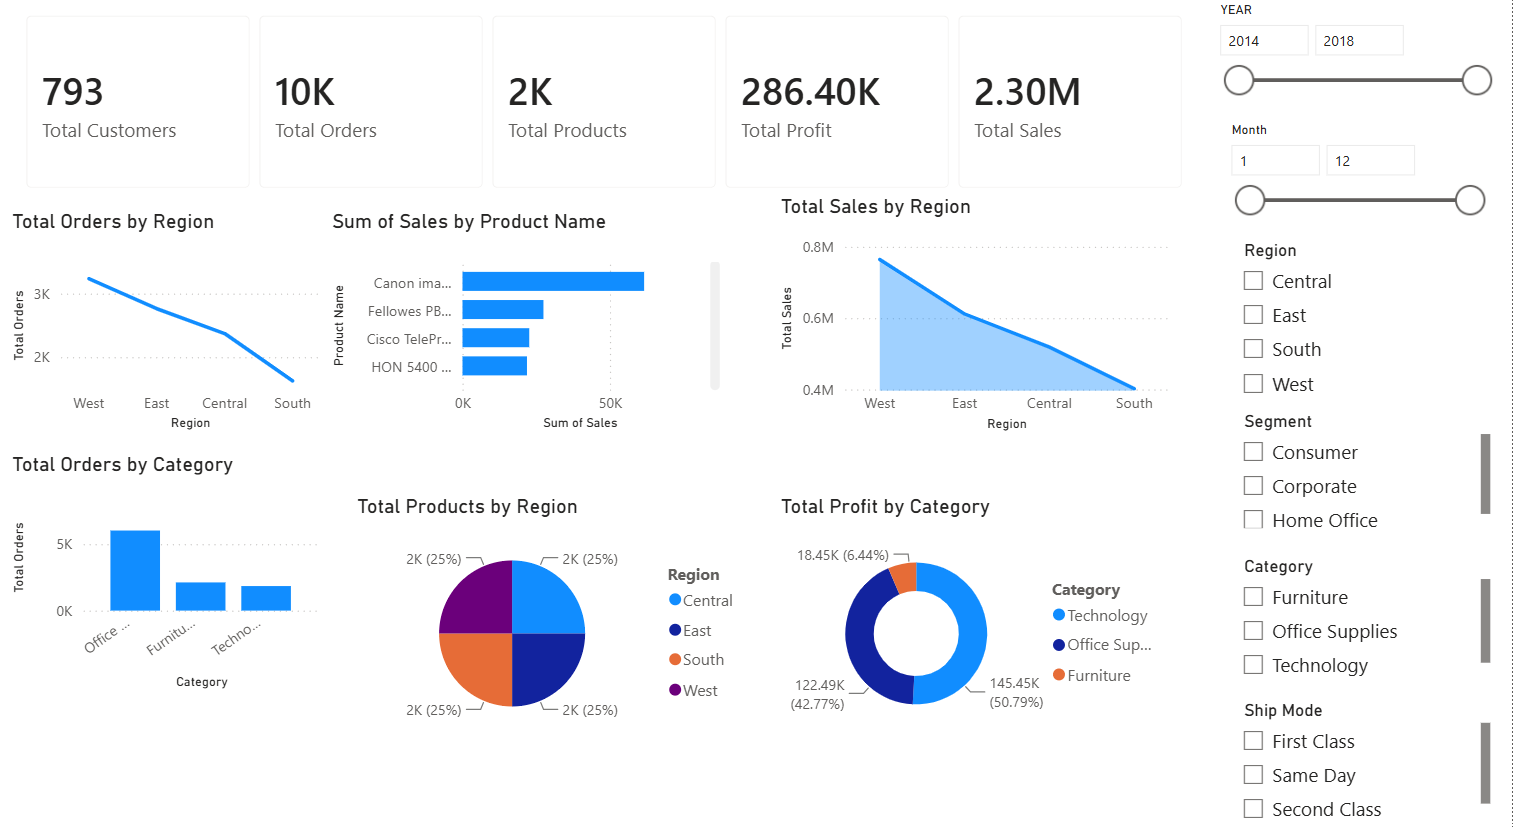

Layout of this report page (visuals, bound fields, positions):
{"tool":"powerbi","page":{"name":"Page 1","canvas":[1280,720],"ordinal":0},"visuals":[{"type":"cardVisual","fields":{"Data":["Fact Sales.Total Customers","Fact Sales.Total Orders","Fact Sales.Total Products","Fact Sales.Total Profit","Fact Sales.Total Sales"]},"box":[13.7,15.1,1008.6,179.8],"z":0},{"type":"slicer","fields":{"Values":["Dim Calendar.YEAR"]},"box":[1022.3,15.1,249.7,90.6],"z":1000},{"type":"slicer","fields":{"Values":["Dim Calendar.Month"]},"box":[1031.9,115.3,234.6,90.6],"z":2000},{"type":"slicer","fields":{"Values":["Dim Customer.Region"]},"box":[1041.5,215.4,230.5,144.1],"z":3000},{"type":"slicer","fields":{"Values":["Dim Customer.Segment"]},"box":[1041.5,359.5,225,108.4],"z":4000},{"type":"slicer","fields":{"Values":["Dim Product.Category"]},"box":[1041.5,481.6,225,111.1],"z":5000},{"type":"slicer","fields":{"Values":["Fact Sales.Ship Mode"]},"box":[1041.5,602.4,225,118],"z":6000},{"type":"lineChart","fields":{"Category":["Dim Customer.Region"],"Y":["Fact Sales.Total Orders"]},"box":[13.4,195,269,191],"z":7000},{"type":"columnChart","fields":{"Y":["Fact Sales.Total Orders"],"Category":["Dim Product.Category"]},"box":[13.4,398.1,269,204.4],"z":8000},{"type":"barChart","fields":{"Y":["Sum(Fact Sales.Sales)"],"Category":["Dim Product.Product Name"]},"box":[282.4,195,336.2,191],"z":9000},{"type":"stackedAreaChart","fields":{"Category":["Dim Customer.Region"],"Y":["Fact Sales.Total Sales"]},"box":[660.3,181.6,336,204],"z":10000},{"type":"pieChart","fields":{"Y":["Fact Sales.Total Products"],"Category":["Dim Customer.Region"]},"box":[303.9,434.4,336,204],"z":11000},{"type":"donutChart","fields":{"Y":["Fact Sales.Total Profit"],"Category":["Dim Product.Category"]},"box":[660,434,336,204],"z":12000}]}

Visuals, with their boxes in screenshot pixels (x1, y1, x2, y2), scaled from the page's 1280x720 canvas onto the 1513x827 screenshot:
cardVisual - Fact Sales.Total Customers x Fact Sales.Total Orders: rect(16, 17, 1208, 224)
slicer - Dim Calendar.YEAR: rect(1208, 17, 1504, 121)
slicer - Dim Calendar.Month: rect(1220, 132, 1497, 236)
slicer - Dim Customer.Region: rect(1231, 247, 1504, 413)
slicer - Dim Customer.Segment: rect(1231, 413, 1497, 537)
slicer - Dim Product.Category: rect(1231, 553, 1497, 681)
slicer - Fact Sales.Ship Mode: rect(1231, 692, 1497, 826)
lineChart - Dim Customer.Region x Fact Sales.Total Orders: rect(16, 224, 334, 443)
columnChart - Fact Sales.Total Orders x Dim Product.Category: rect(16, 457, 334, 692)
barChart - Sum(Fact Sales.Sales) x Dim Product.Product Name: rect(334, 224, 731, 443)
stackedAreaChart - Dim Customer.Region x Fact Sales.Total Sales: rect(780, 209, 1178, 443)
pieChart - Fact Sales.Total Products x Dim Customer.Region: rect(359, 499, 756, 733)
donutChart - Fact Sales.Total Profit x Dim Product.Category: rect(780, 498, 1177, 733)
